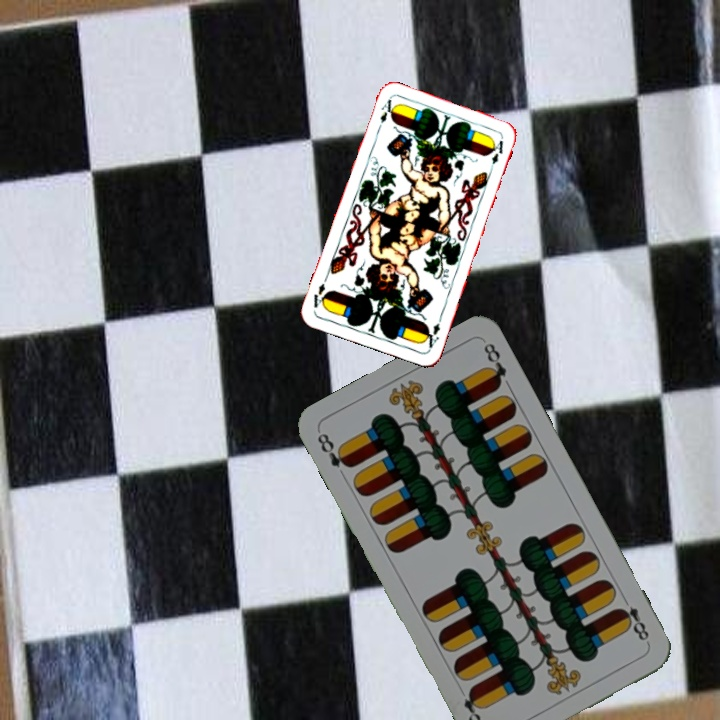E8: (614, 592, 652, 647), (313, 429, 354, 471)
EA: (420, 312, 445, 352), (376, 95, 395, 126)
